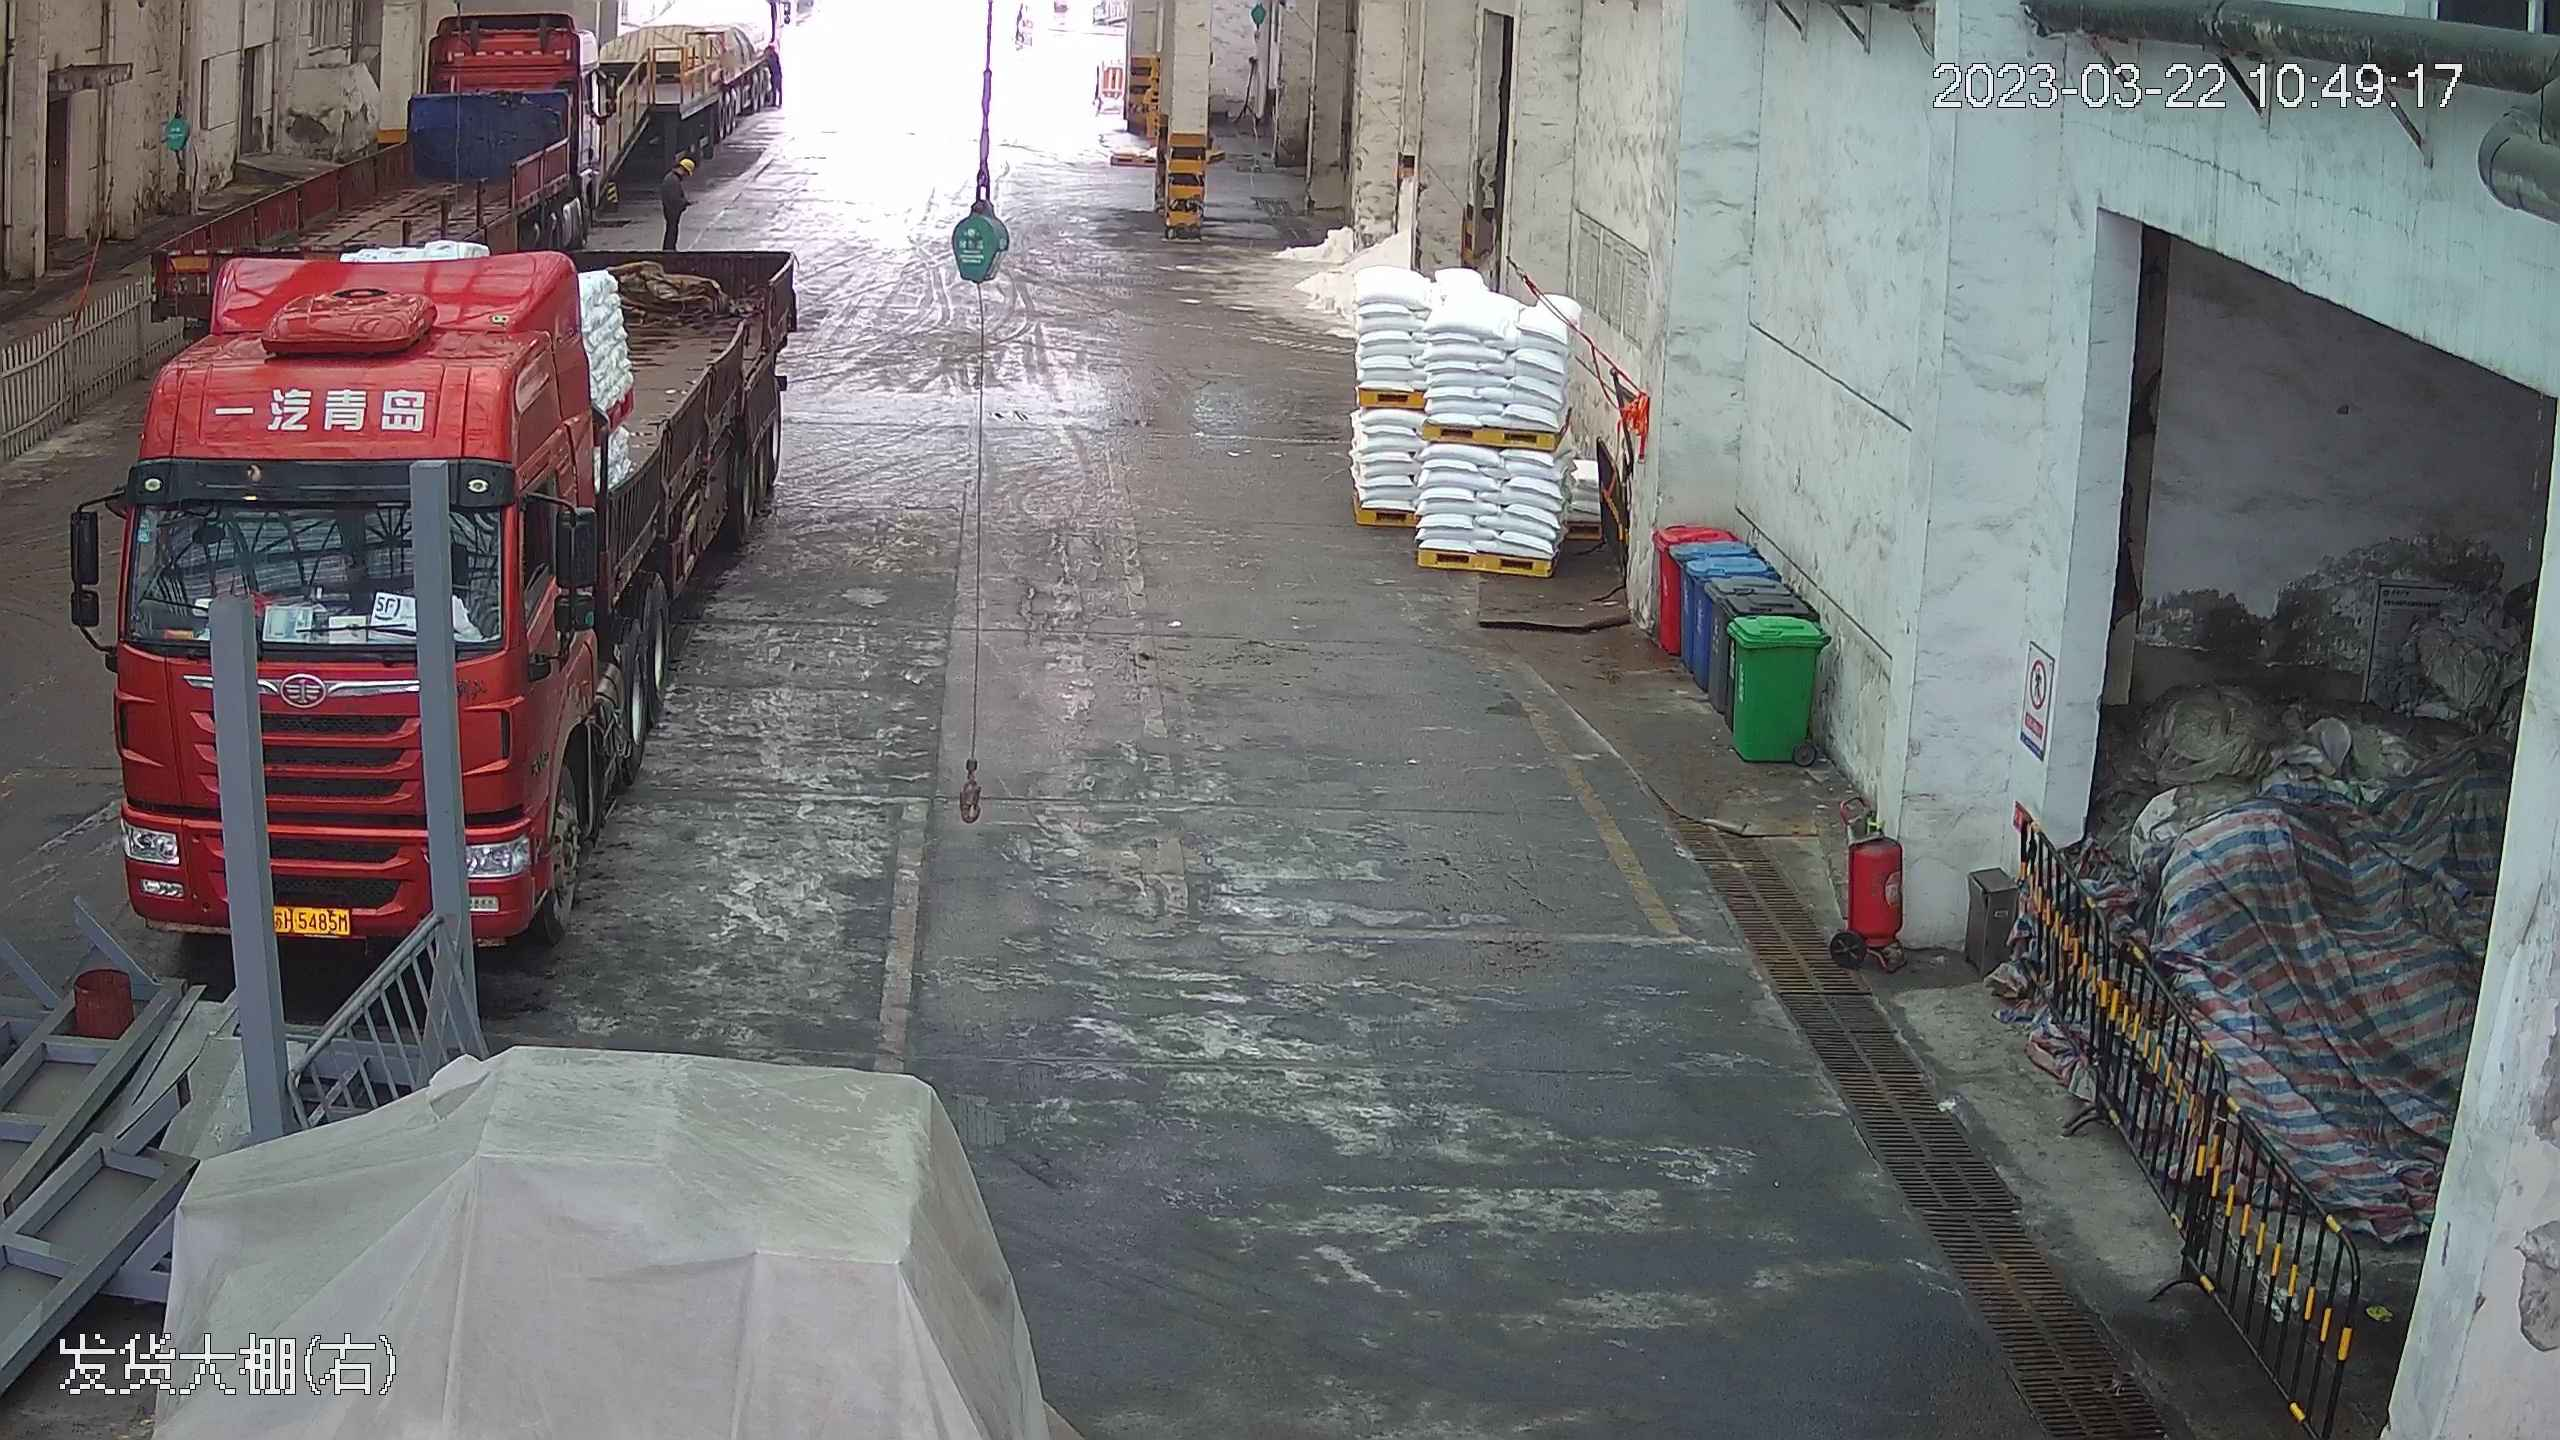head: (665, 155, 696, 192)
helmet: (681, 159, 694, 177)
people: (654, 155, 696, 259)
truck: (83, 248, 793, 961), (151, 8, 629, 380)
